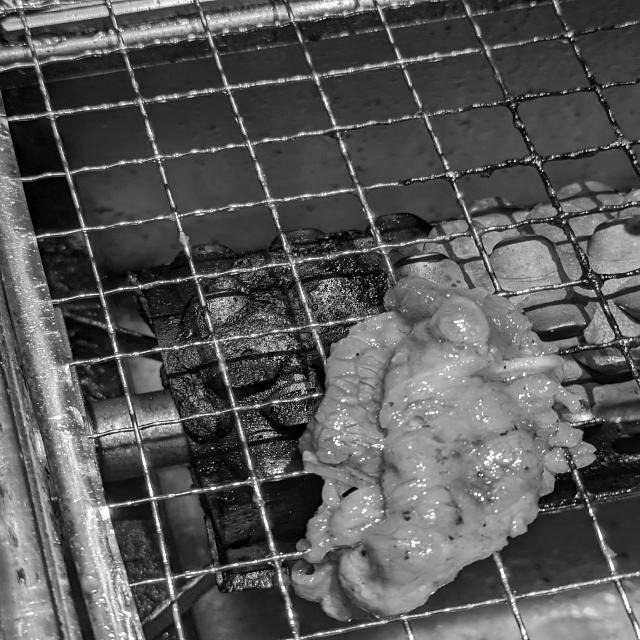OK undercooked beef,: (281, 269, 618, 634)
